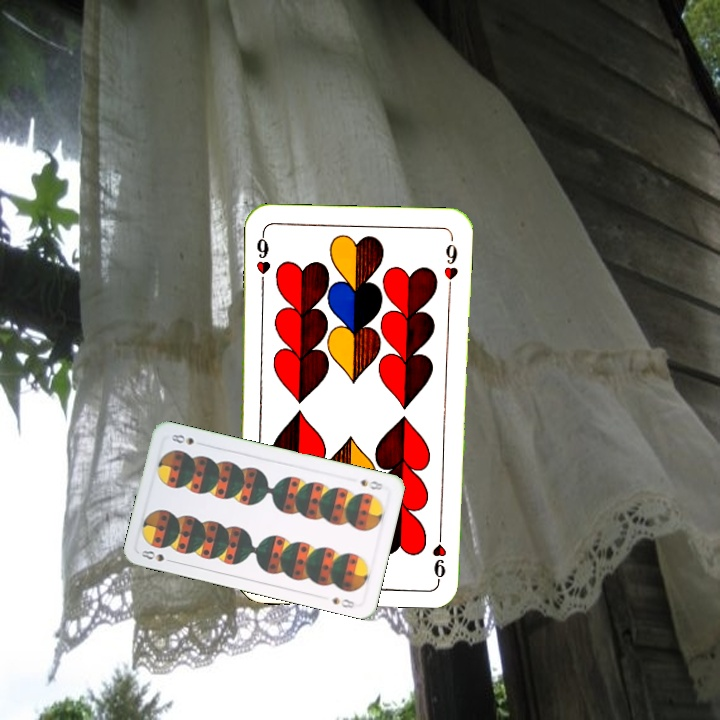H9: (252, 228, 273, 287), (430, 522, 449, 581)
S8: (137, 546, 177, 565), (356, 475, 386, 493)
